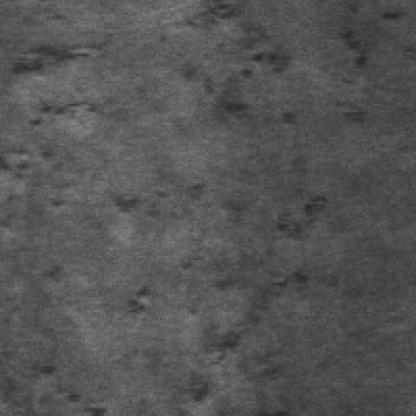rolled-in_scale: (177, 181, 329, 406), (4, 19, 119, 177), (178, 4, 301, 129)
